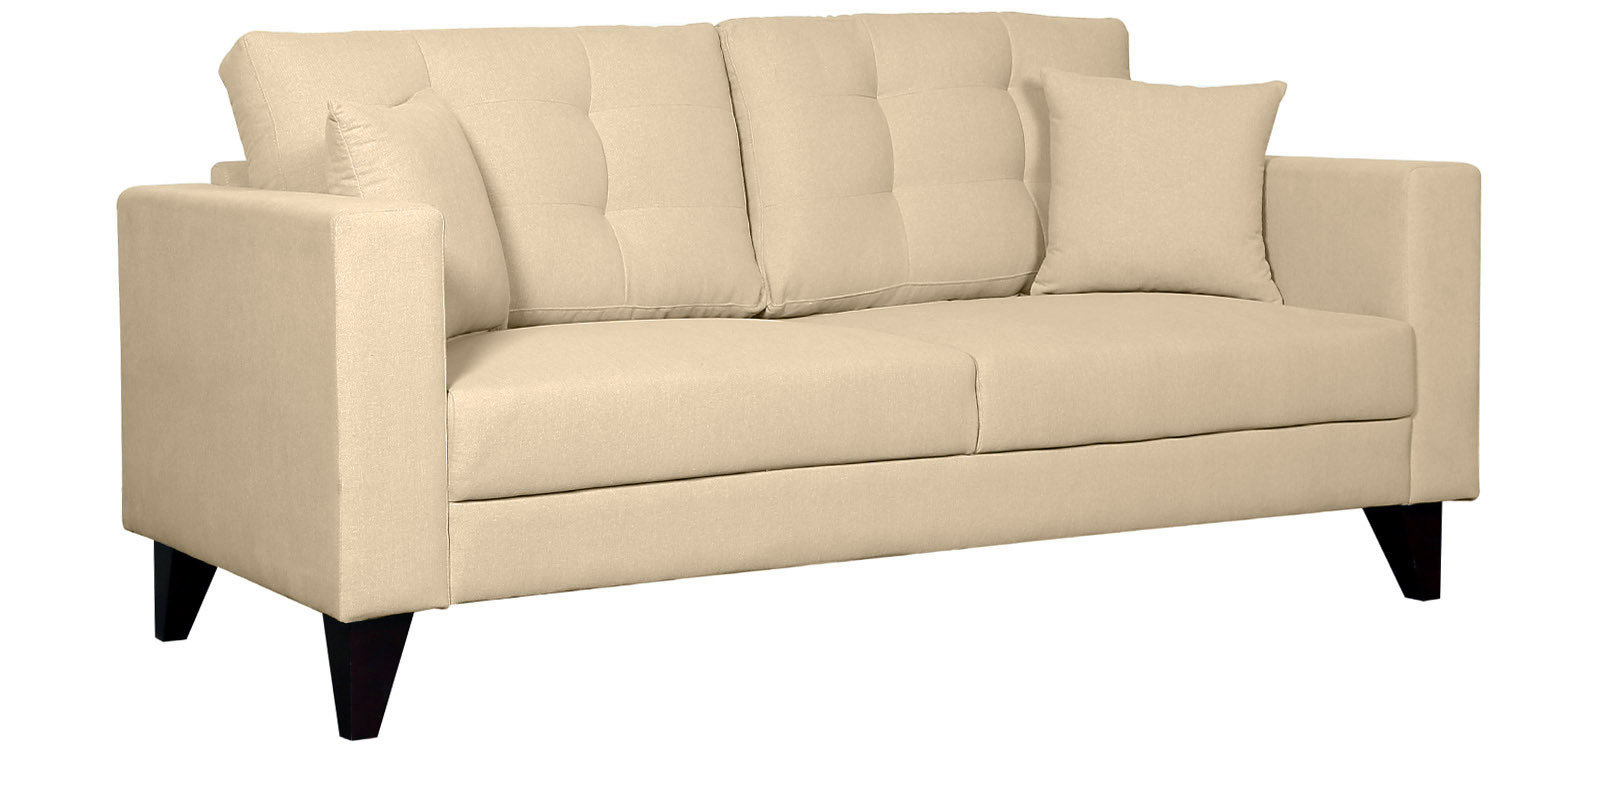Alfredo Three Seater Sofa in Beige Colour by CasaCraft: (91, 7, 1489, 743)
